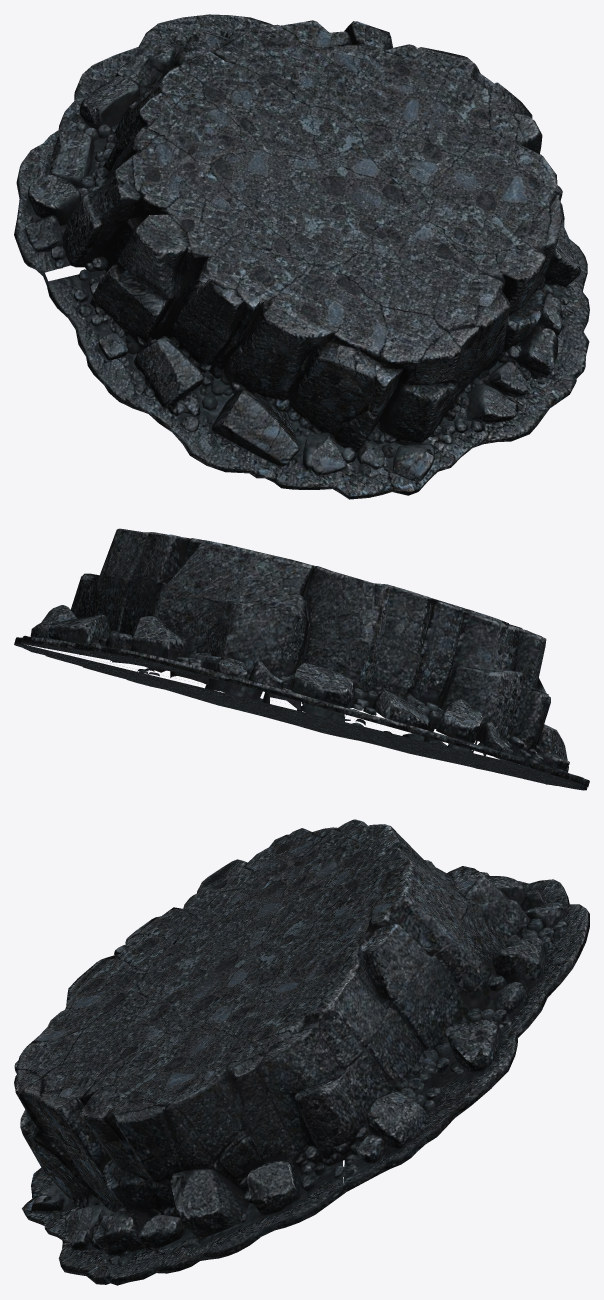
File: 08-obsidian-tesserae-base.glb
3 renders of one model, top to bottom at view 1: azimuth 30°, elevation 25°; view 2: azimuth 150°, elevation 25°; view 3: azimuth 270°, elevation 25°, orthographic. The views are drawn at different scales.
Parts seen in each view (by area): view 1: cd01dc15_2808_4ed2_b4f8_35af9306795b; view 2: cd01dc15_2808_4ed2_b4f8_35af9306795b; view 3: cd01dc15_2808_4ed2_b4f8_35af9306795b.
Part boxes in pixels (left/top/right/bottom): cd01dc15_2808_4ed2_b4f8_35af9306795b: left=14, top=14, right=589, bottom=499; cd01dc15_2808_4ed2_b4f8_35af9306795b: left=14, top=528, right=589, bottom=790; cd01dc15_2808_4ed2_b4f8_35af9306795b: left=14, top=819, right=589, bottom=1285.
Size of the model in its own units: 0.9995 by 0.6333 by 0.9106.
Materials: 1 (1 with a texture image).
